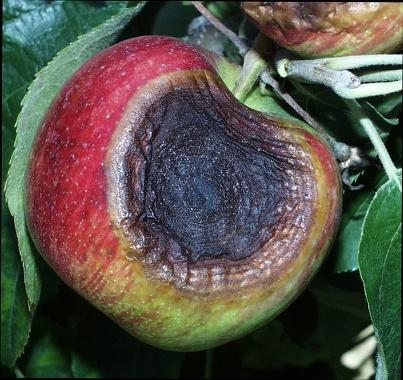rotten apple: (25, 36, 343, 352), (236, 2, 403, 59)
